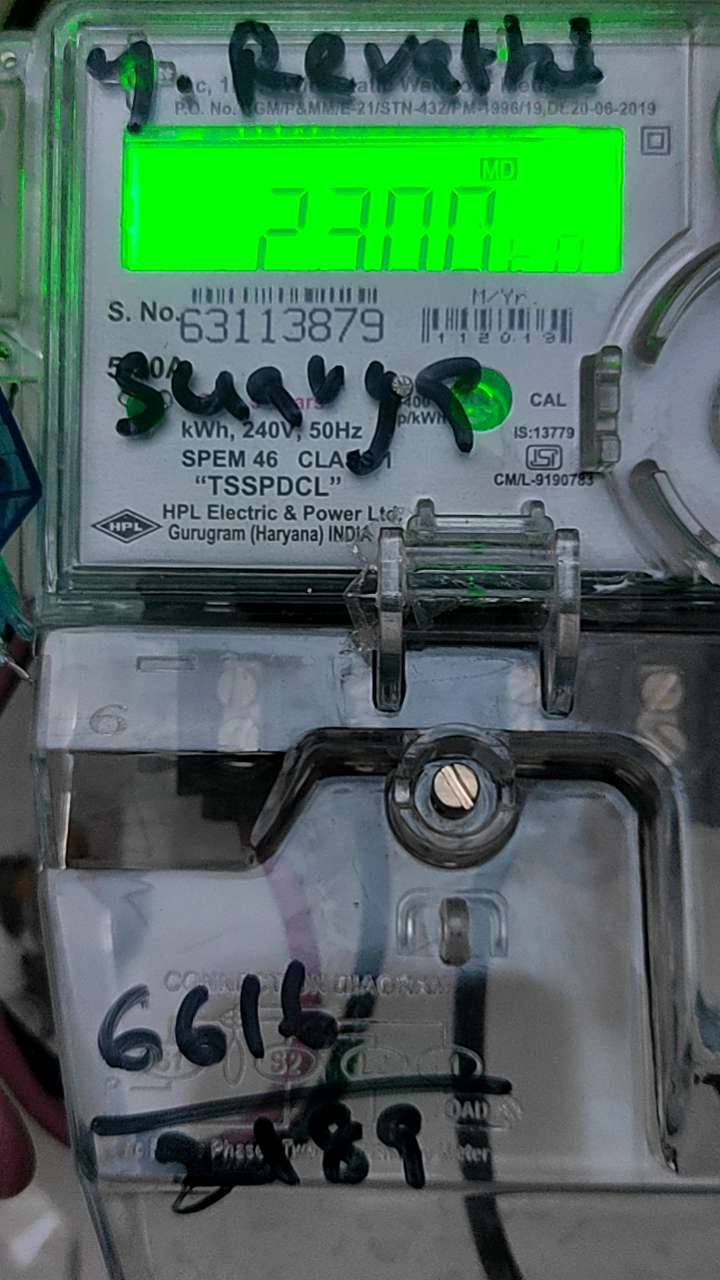meter_serial_number: (175, 304, 394, 350)
